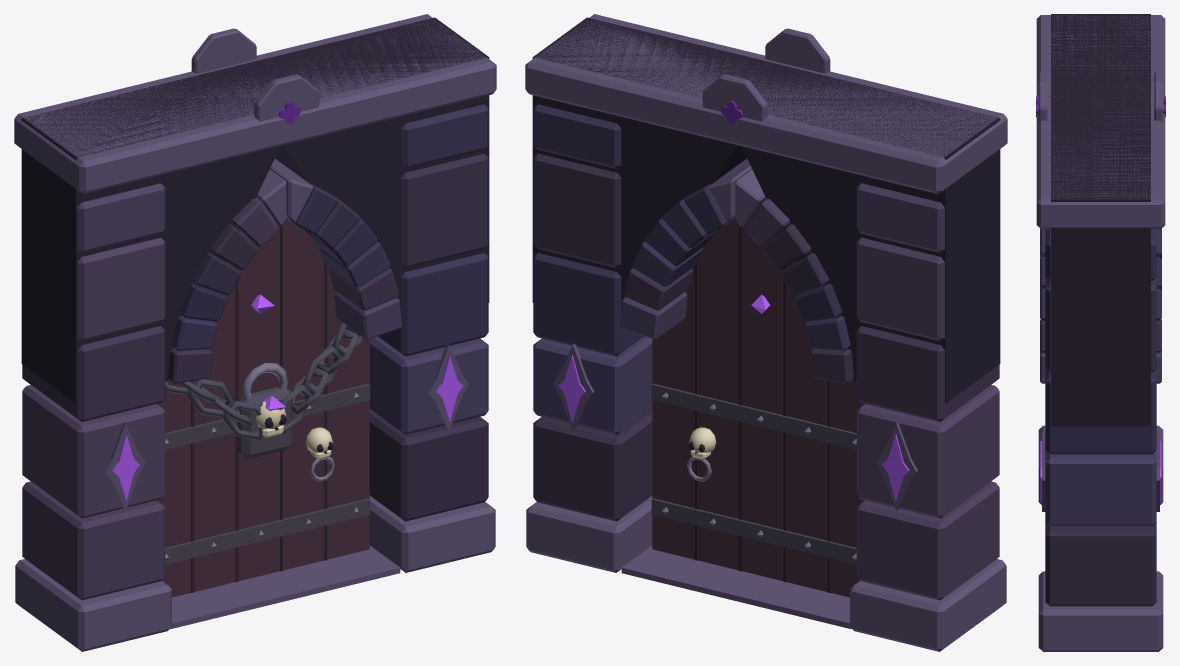
File: door_locked.fbx
3 views of the same model, side by side, from view 1: azimuth 30°, elevation 25°; view 2: azimuth 150°, elevation 25°; view 3: azimuth 270°, elevation 25° (orthographic). The views are drawn at different scales.
Visible parts, largest first — view 1: door_locked, Door, Lock; view 2: door_locked, Door; view 3: door_locked.
Part boxes in pixels (x1=…): door_locked: x1=14, y1=14, x2=496, y2=651; Door: x1=157, y1=218, x2=370, y2=597; Lock: x1=165, y1=322, x2=363, y2=458; door_locked: x1=525, y1=14, x2=1007, y2=651; Door: x1=651, y1=218, x2=864, y2=597; door_locked: x1=1036, y1=14, x2=1165, y2=651.
Size of the model in its own units: 4 by 4.8 by 1.17.
